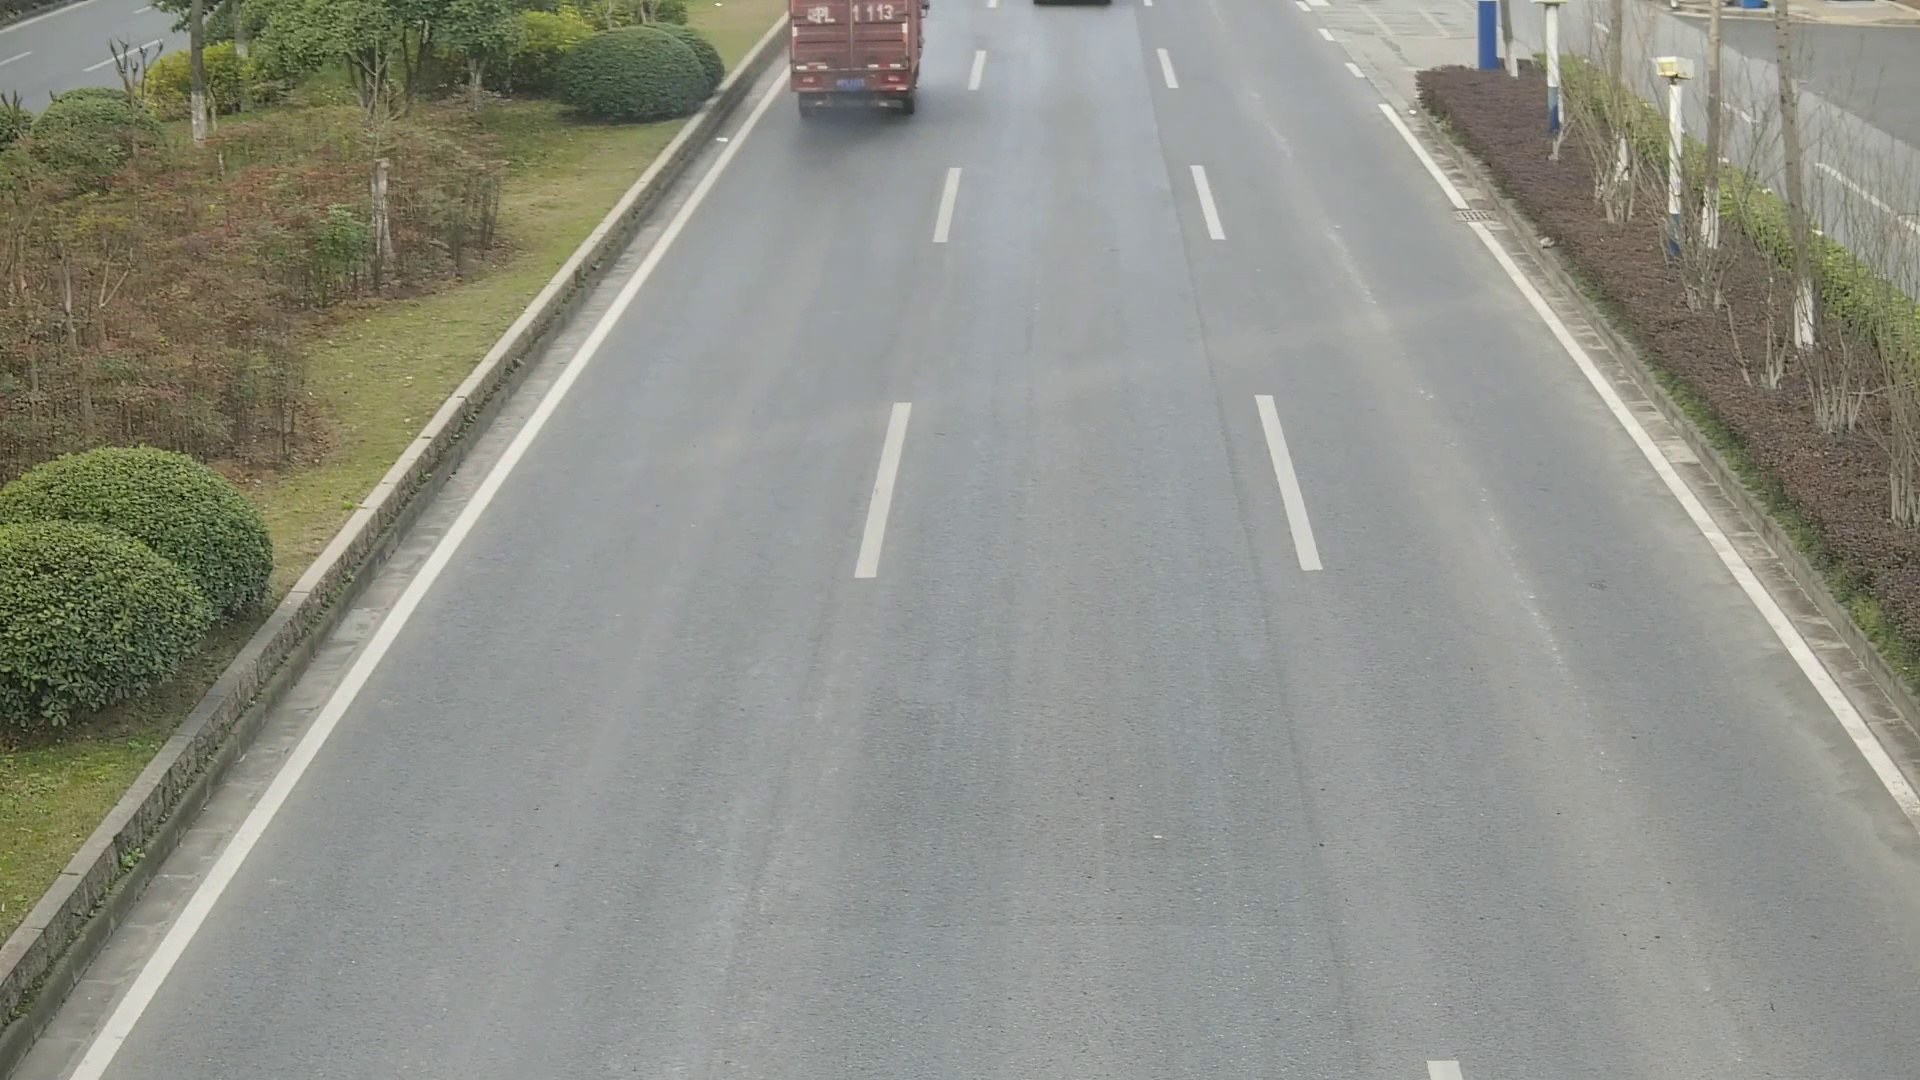smoky: (794, 16, 913, 161)
